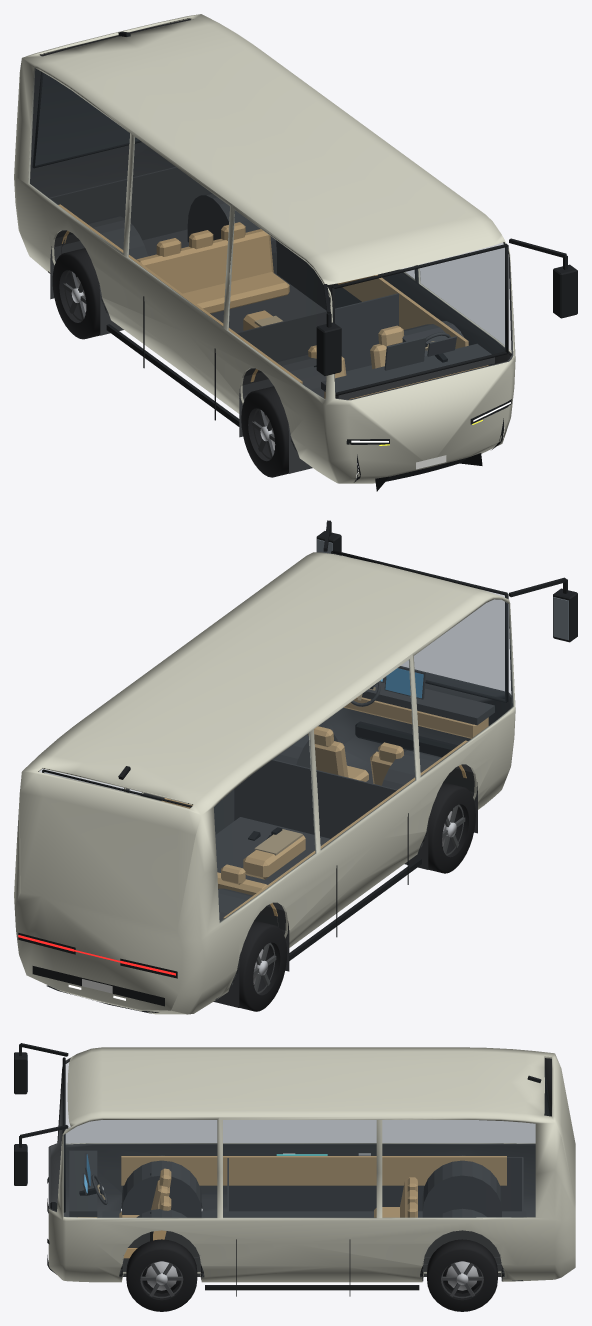
File: training-midibus.glb
3 renders of one model, top to bottom at view 1: azimuth 30°, elevation 25°; view 2: azimuth 150°, elevation 25°; view 3: azimuth 270°, elevation 25°, orthographic. The views are drawn at different scales.
Parts seen in each view (by area): view 1: Body, Surface_CarRoot_Glass, Interior_CarRoot_InteriorLeather, Surface_CarRoot_BlackTrim, Interior_CarRoot_InteriorDark, InteriorWheelCabinEnd.001, InteriorWheelCabinEnd, Surface_WheelRearR_Tyre, Surface_WheelFrontR_Tyre, InteriorWheelHousing.003, InteriorWheelHousing.001, InteriorWheelCabinSide.001 (+2 smaller); view 2: Body, Surface_CarRoot_Glass, Surface_CarRoot_BlackTrim, InteriorWheelCabinEnd, Interior_CarRoot_InteriorLeather, Interior_CarRoot_InteriorDark, Surface_WheelRearR_Tyre, Surface_WheelFrontR_Tyre, InteriorWheelHousing.001, InteriorWheelHousing.003, Surface_CarRoot_MirrorGlass, InteriorCenterScreen (+3 smaller); view 3: Body, Surface_CarRoot_Glass, Interior_CarRoot_InteriorLeather, InteriorWheelCabinSide, Surface_CarRoot_BlackTrim, InteriorWheelHousing.003, Surface_WheelRearL_Tyre, Surface_WheelFrontL_Tyre, Interior_CarRoot_InteriorDark, InteriorWheelHousing.001, InteriorWheelHousing.002, InteriorWheelHousing (+4 smaller).
Boxes of the visible parts, x1,y1,x2,y2 form: Body: (14, 14, 515, 483); Surface_CarRoot_Glass: (28, 68, 510, 399); Interior_CarRoot_InteriorLeather: (58, 204, 488, 399); Surface_CarRoot_BlackTrim: (32, 31, 577, 491); Interior_CarRoot_InteriorDark: (142, 229, 494, 399); InteriorWheelCabinEnd.001: (49, 167, 210, 240); InteriorWheelCabinEnd: (236, 293, 398, 371); Surface_WheelRearR_Tyre: (52, 248, 100, 339); Surface_WheelFrontR_Tyre: (241, 386, 288, 477); InteriorWheelHousing.003: (50, 216, 147, 335); InteriorWheelHousing.001: (239, 354, 326, 473); InteriorWheelCabinSide.001: (276, 240, 361, 310); Body: (14, 552, 515, 1014); Surface_CarRoot_Glass: (40, 592, 514, 922); Surface_CarRoot_BlackTrim: (18, 520, 577, 1013); InteriorWheelCabinEnd: (234, 759, 397, 838); Interior_CarRoot_InteriorLeather: (161, 697, 488, 918); Interior_CarRoot_InteriorDark: (215, 666, 494, 884); Surface_WheelRearR_Tyre: (239, 920, 287, 1011); Surface_WheelFrontR_Tyre: (428, 782, 475, 873); InteriorWheelHousing.001: (382, 750, 477, 869); InteriorWheelHousing.003: (213, 888, 289, 1007); Surface_CarRoot_MirrorGlass: (317, 539, 568, 640); InteriorCenterScreen: (385, 668, 423, 698); Body: (48, 1047, 575, 1282); Surface_CarRoot_Glass: (64, 1063, 550, 1217); Interior_CarRoot_InteriorLeather: (78, 1156, 506, 1240); InteriorWheelCabinSide: (229, 1157, 522, 1211); Surface_CarRoot_BlackTrim: (14, 1043, 551, 1296); InteriorWheelHousing.003: (422, 1155, 501, 1217); Surface_WheelRearL_Tyre: (427, 1239, 497, 1311); Surface_WheelFrontL_Tyre: (126, 1239, 197, 1311); Interior_CarRoot_InteriorDark: (69, 1150, 526, 1260); InteriorWheelHousing.001: (122, 1155, 201, 1217); InteriorWheelHousing.002: (423, 1208, 501, 1276); InteriorWheelHousing: (122, 1209, 201, 1276).
Size of the model in its own units: 2.84 by 2.66 by 6.85.
